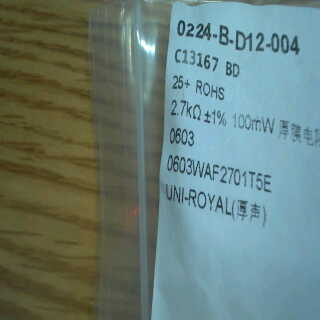2.7kR: (166, 95, 202, 123)
